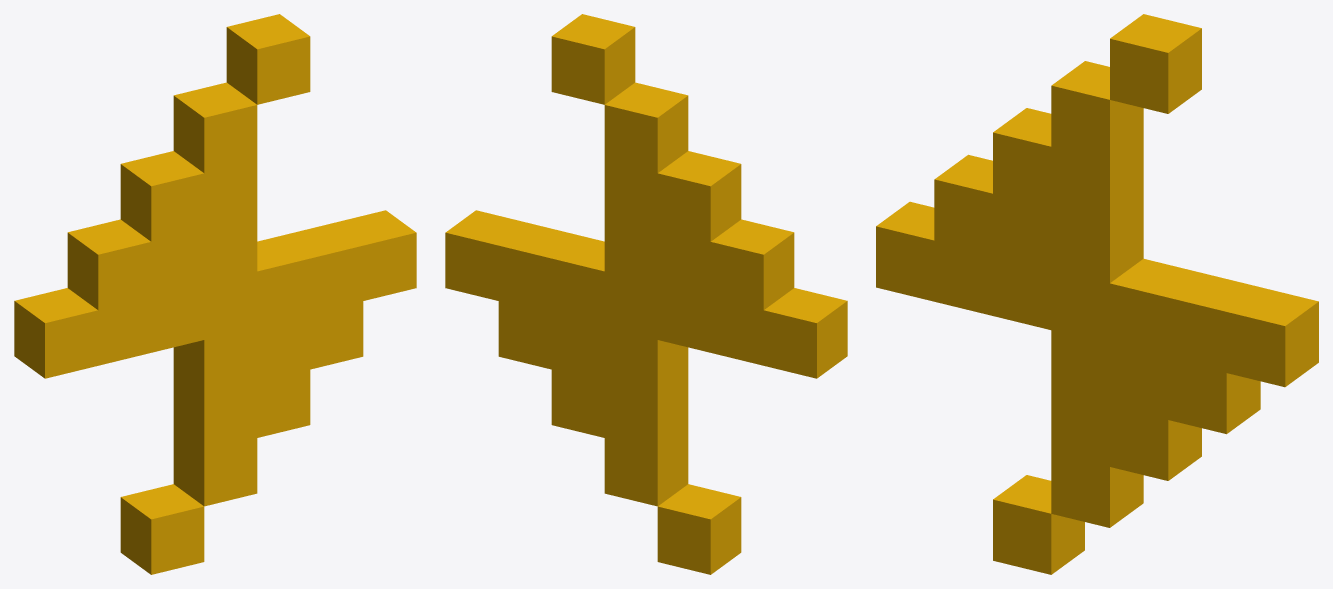
The model's file is Lightning.obj.
3 views of the same model, side by side, from view 1: azimuth 30°, elevation 25°; view 2: azimuth 150°, elevation 25°; view 3: azimuth 330°, elevation 25° (orthographic). The views are drawn at different scales.
Size of the model in its own units: 0.7 by 0.9 by 0.1.
Materials: 1 (1 with a texture image).
